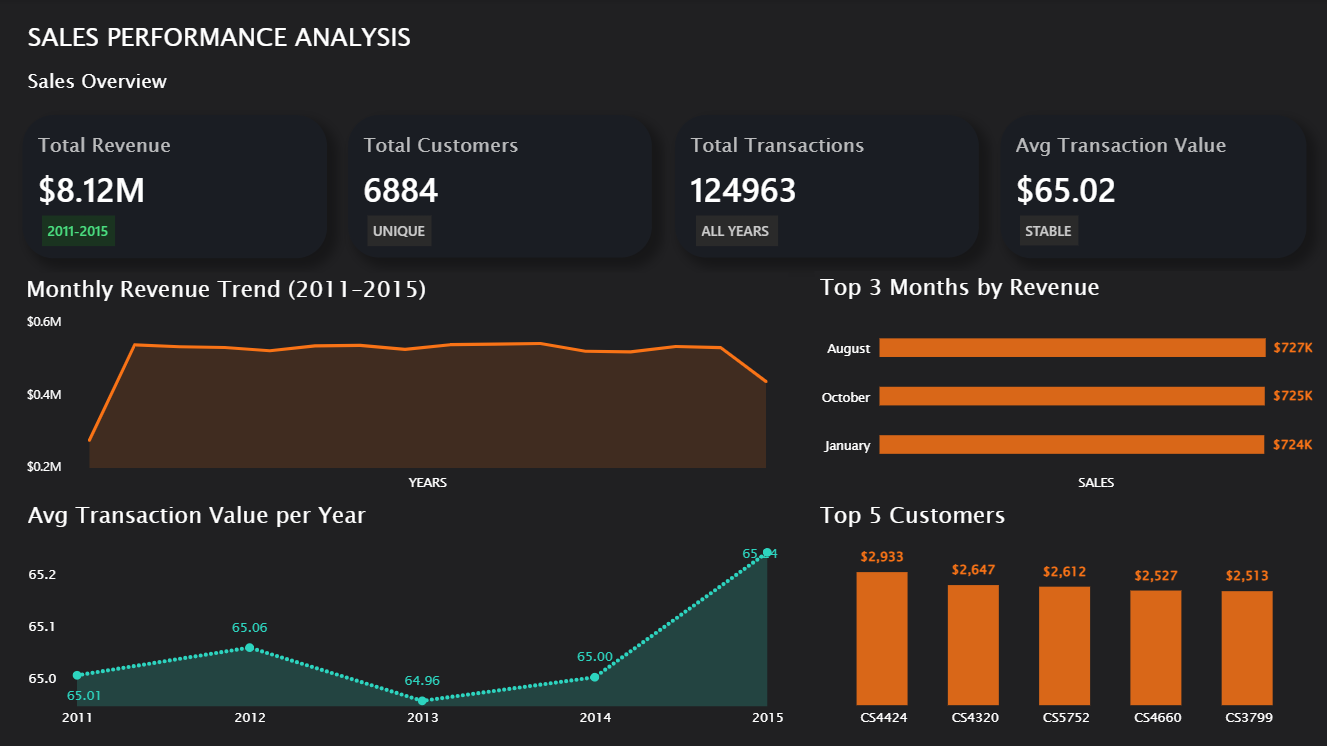

The page's visual inventory and layout, read from the dashboard file:
{"tool":"powerbi","page":{"name":"Page 1","canvas":[1280,720],"ordinal":0},"visuals":[{"type":"cardVisual","fields":{"Data":["monthly_summary.Total Revenue"]},"box":[24.8,112.3,292,137],"z":0},{"type":"textbox","box":[25,14.6,476.7,53.9],"z":1000},{"type":"textbox","box":[25,59.8,476.7,42.3],"z":2000},{"type":"cardVisual","fields":{"Data":["monthly_summary.Total Customers"]},"box":[337,112.3,291,136.6],"z":3000},{"type":"cardVisual","fields":{"Data":["monthly_summary.Total Transactions"]},"box":[649.6,112.3,291,136.6],"z":4000},{"type":"cardVisual","fields":{"Data":["monthly_summary.Avg Transaction Value"]},"box":[962.2,112.3,293,137],"z":5000},{"type":"textbox","box":[43.7,208.5,70,29.2],"z":6000},{"type":"textbox","box":[355.7,208.5,61.2,29.2],"z":7000},{"type":"textbox","box":[670.6,208.5,78.7,29.2],"z":8000},{"type":"textbox","box":[980.8,208.5,56.1,28.8],"z":9000},{"type":"lineChart","title":"Monthly Revenue Trend (2011–2015)","fields":{"Y":["monthly_summary.Total Revenue"],"Category":["monthly_summary.month_year.Variation.Date Hierarchy.Year","monthly_summary.month_year.Variation.Date Hierarchy.Quarter"]},"box":[23.3,263.9,736.2,215.8],"z":10000},{"type":"clusteredBarChart","title":"Top 3 Months by Revenue","fields":{"Category":["top_months.Month"],"Y":["Sum(top_months.Total Sales)"]},"box":[784.3,262.4,482.6,217.2],"z":11000},{"type":"lineChart","title":"Avg Transaction Value per Year","fields":{"Y":["monthly_summary.Avg Transaction Value"],"Category":["yearly_sales.Year"]},"box":[24.8,479.6,734.8,230.3],"z":12000},{"type":"clusteredColumnChart","title":"Top 5 Customers","fields":{"Category":["top_customers.customer_id"],"Y":["Sum(top_customers.total_spend)"]},"box":[784.3,479.6,482.6,230.3],"z":13000}]}

Visuals, with their boxes in screenshot pixels (x1, y1, x2, y2), scaled from the page's 1280x720 canvas onto the 1327x746 screenshot:
cardVisual - monthly_summary.Total Revenue: region(26, 116, 328, 258)
textbox: region(26, 15, 520, 71)
textbox: region(26, 62, 520, 106)
cardVisual - monthly_summary.Total Customers: region(349, 116, 651, 258)
cardVisual - monthly_summary.Total Transactions: region(673, 116, 975, 258)
cardVisual - monthly_summary.Avg Transaction Value: region(998, 116, 1301, 258)
textbox: region(45, 216, 118, 246)
textbox: region(369, 216, 432, 246)
textbox: region(695, 216, 777, 246)
textbox: region(1017, 216, 1075, 246)
"Monthly Revenue Trend (2011–2015)" lineChart: region(24, 273, 787, 497)
"Top 3 Months by Revenue" clusteredBarChart: region(813, 272, 1313, 497)
"Avg Transaction Value per Year" lineChart: region(26, 497, 787, 736)
"Top 5 Customers" clusteredColumnChart: region(813, 497, 1313, 736)
